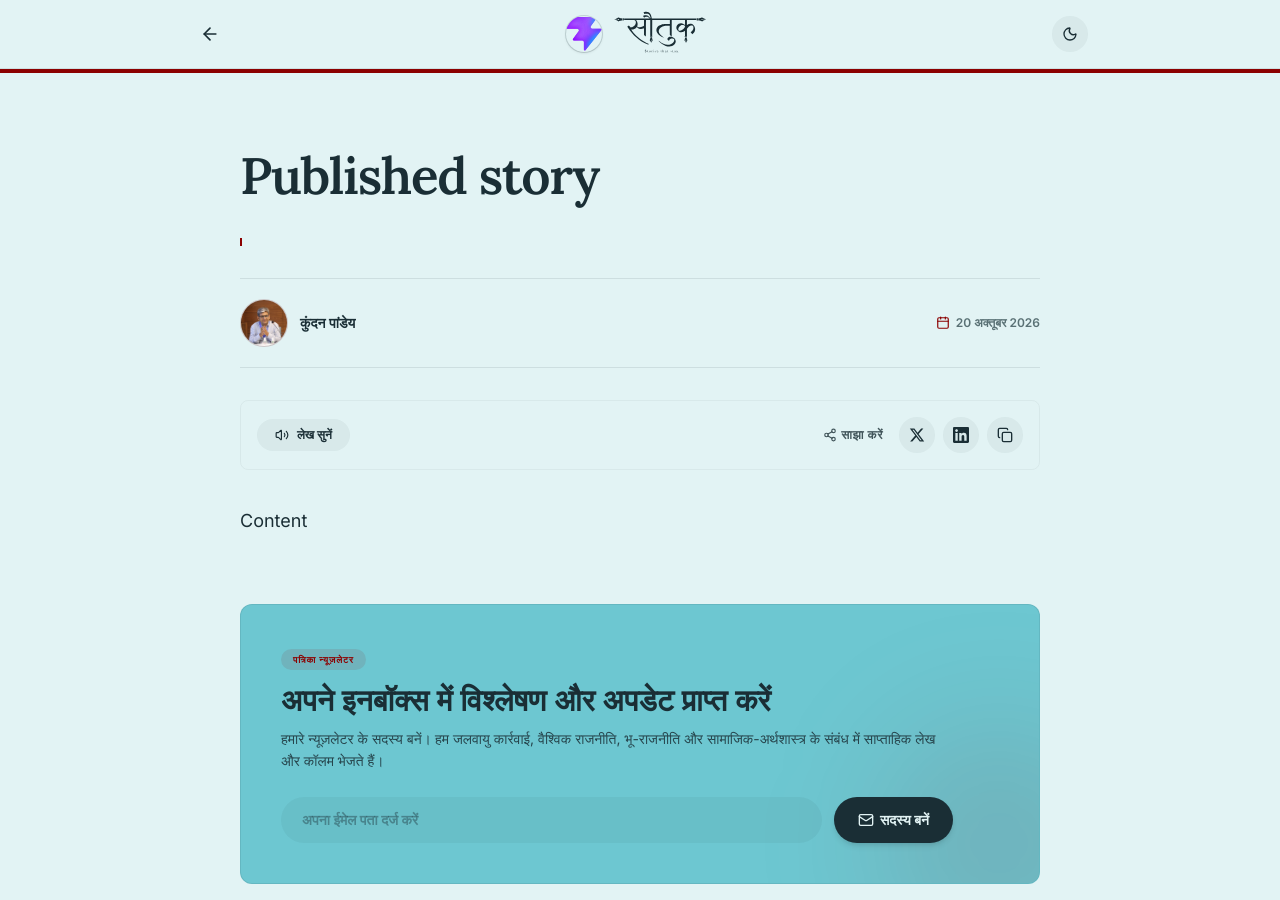
Test: only shows copy success after the clipboard write resolves
The image size is (1280, 900).
Step 1. Click the button titled "लिंक कॉपी करें" → (1005,435), box [987,417,1023,453]
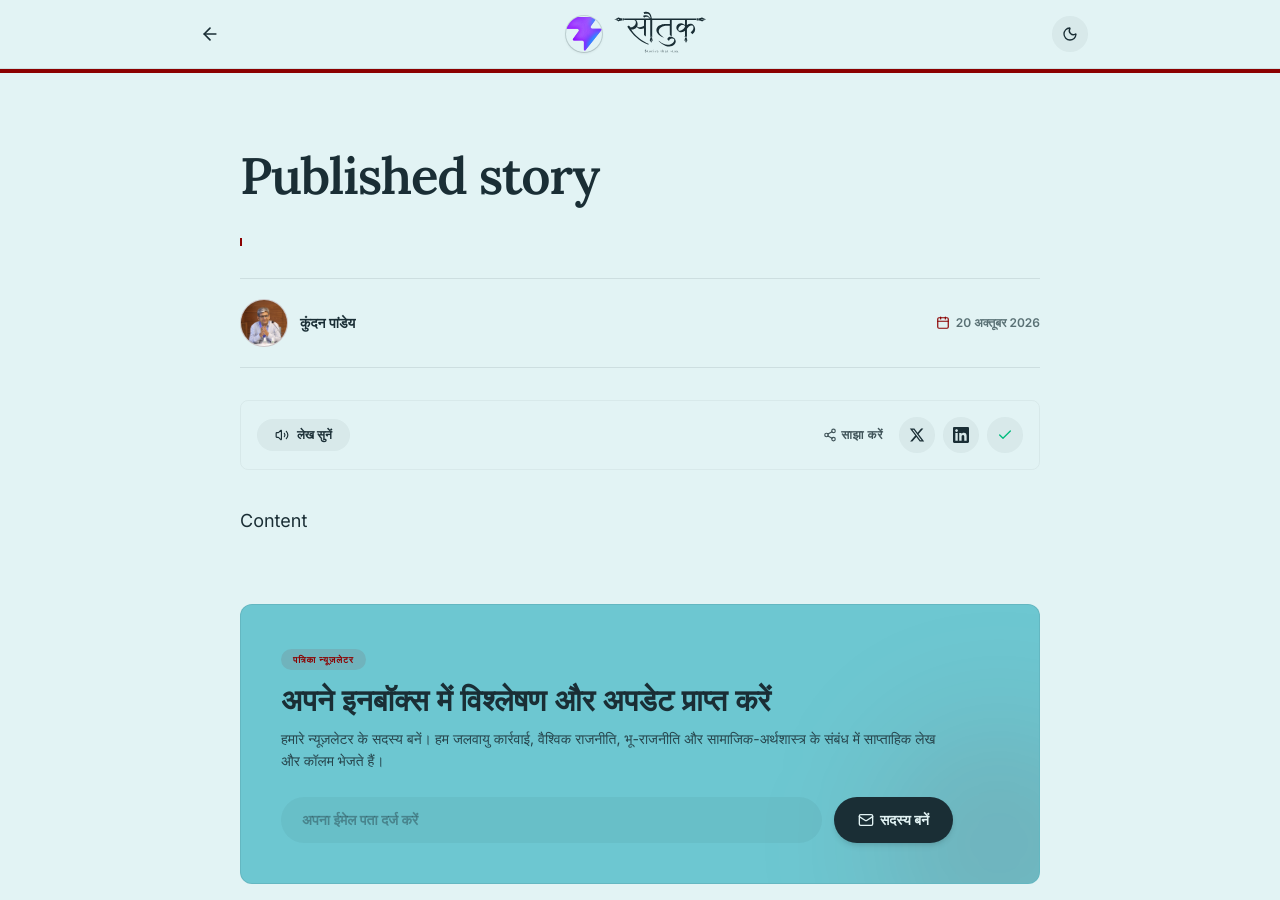
Check: the icon with class "lucide-check" is shown, box [997,427,1013,443]
